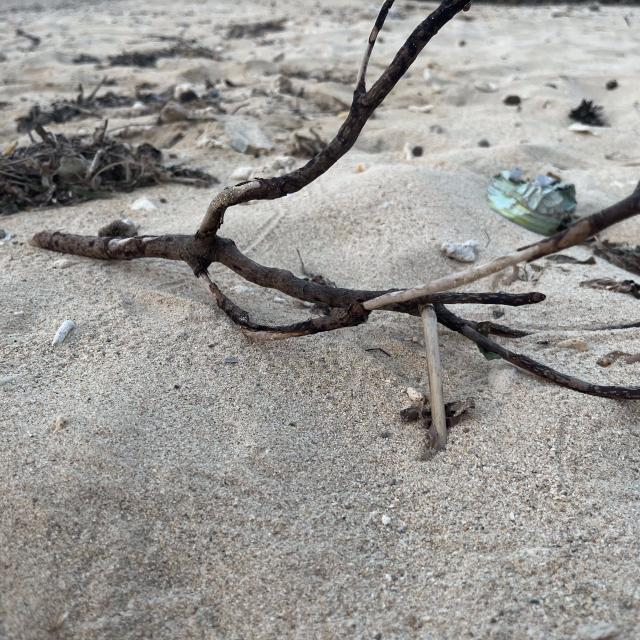seaweed: (0, 110, 217, 210)
stick: (18, 2, 640, 461)
trash: (471, 152, 585, 245)
